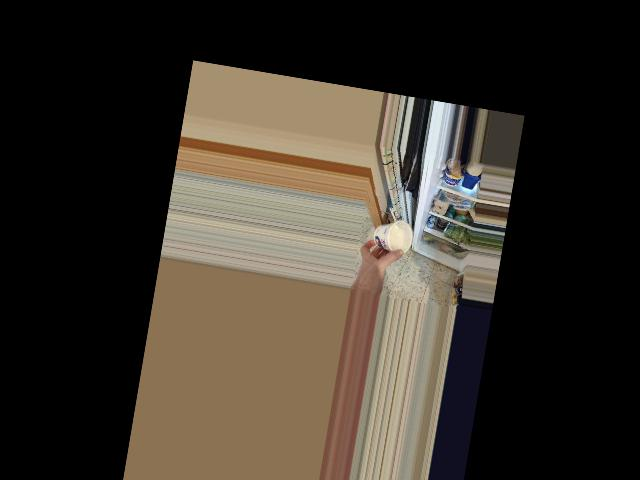cotage: (372, 219, 414, 255)
